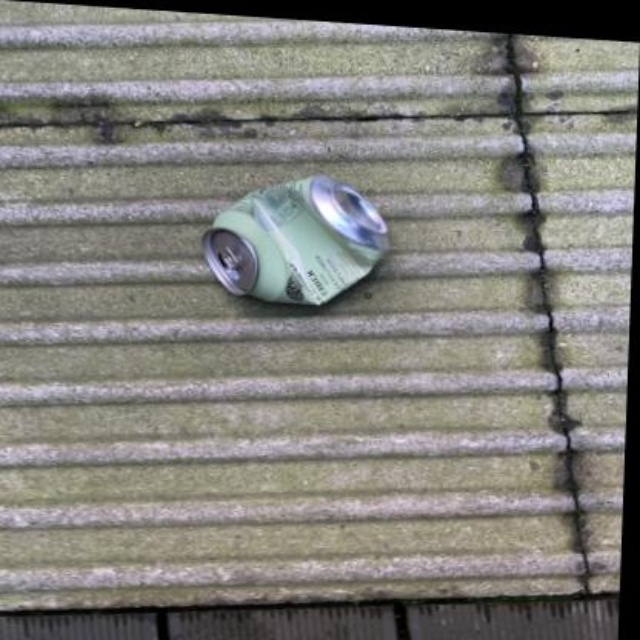trash: (203, 175, 388, 303)
